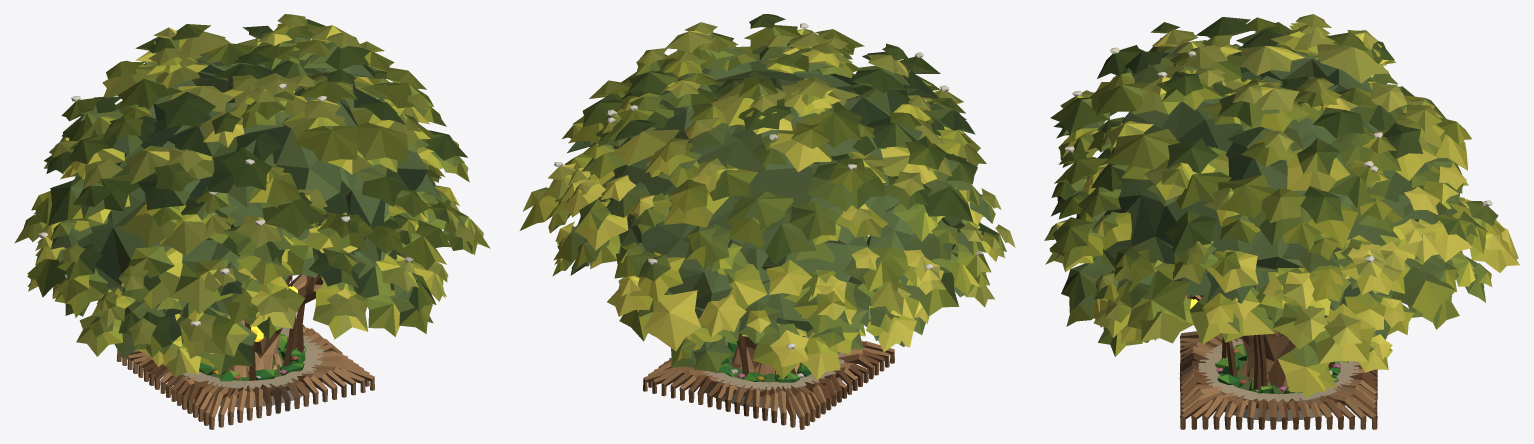
Rendered from tree_banyan.glb.
3 views of the same model, side by side, from view 1: azimuth 30°, elevation 25°; view 2: azimuth 150°, elevation 25°; view 3: azimuth 270°, elevation 25° (orthographic). The views are drawn at different scales.
Visible parts, largest first — view 1: canopy, body; view 2: canopy, body; view 3: canopy, body.
Part boxes in pixels (x1=…): canopy: x1=14, y1=14, x2=490, y2=376; body: x1=116, y1=274, x2=374, y2=429; canopy: x1=520, y1=14, x2=1015, y2=380; body: x1=643, y1=96, x2=894, y2=429; canopy: x1=1044, y1=14, x2=1519, y2=397; body: x1=1179, y1=244, x2=1381, y2=429.
Bounding box in the file's own units: 12.82 × 9.62 × 12.06.
